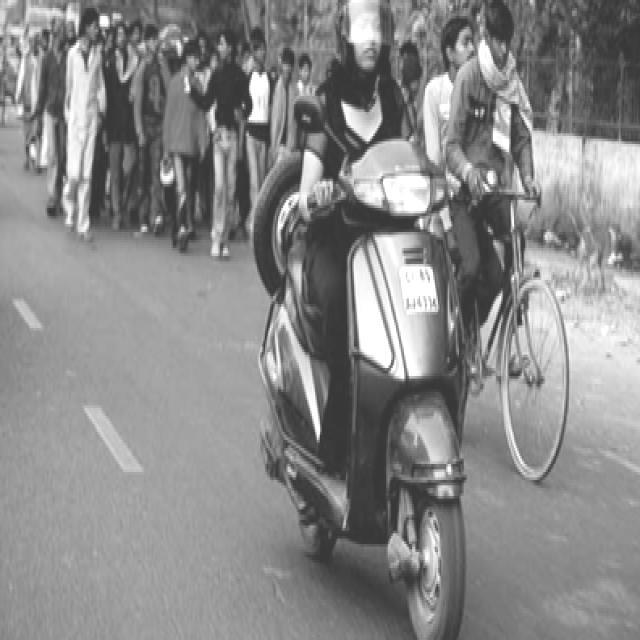Helmet: (332, 0, 402, 77)
